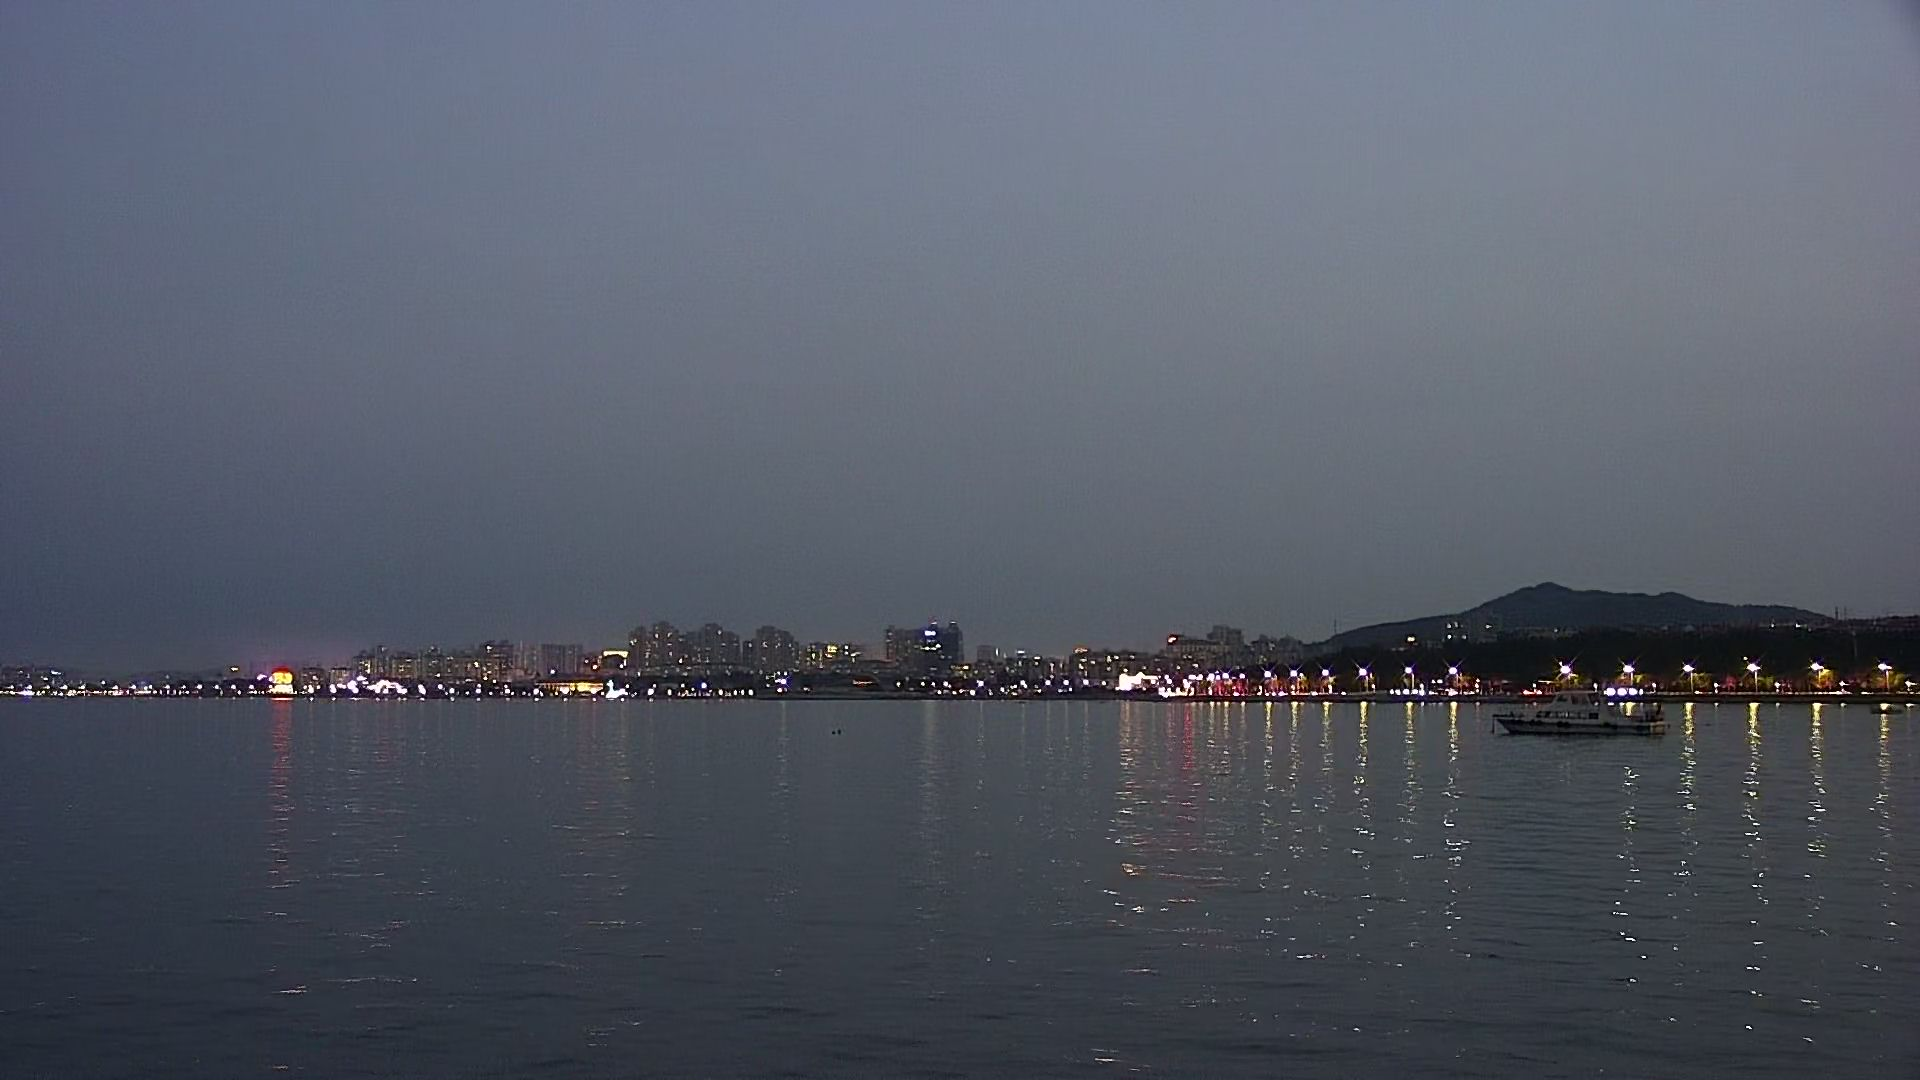ship: (1490, 679, 1673, 758)
